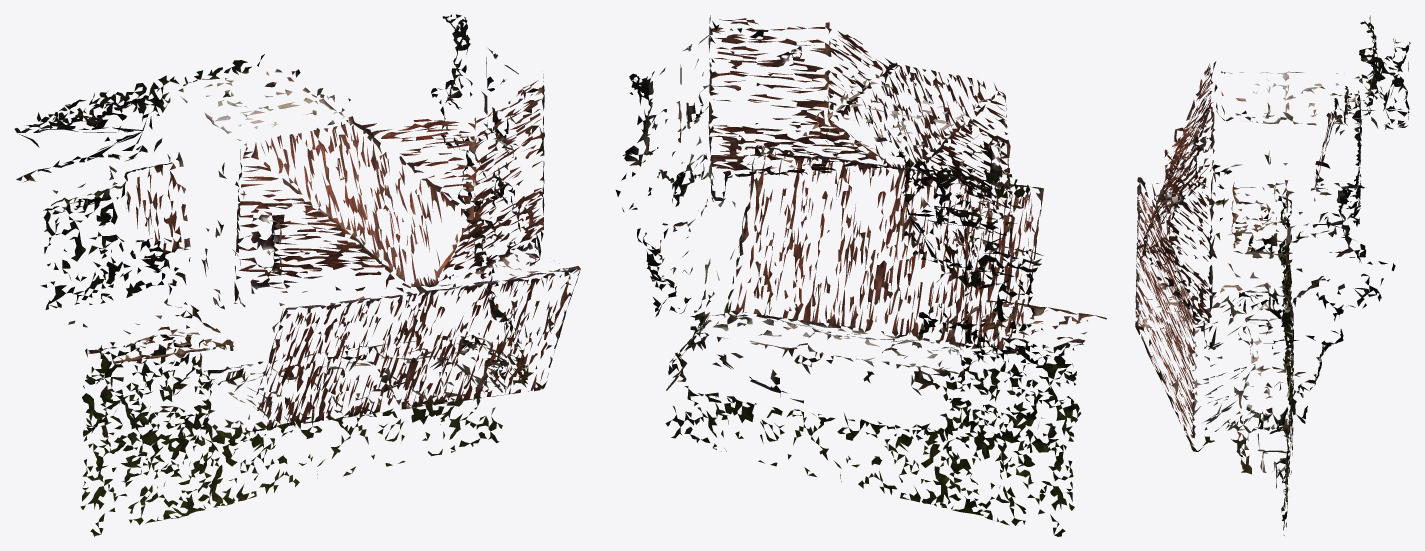
3 renders of one model, left to right at view 1: azimuth 30°, elevation 25°; view 2: azimuth 150°, elevation 25°; view 3: azimuth 270°, elevation 25°, orthographic. The views are drawn at different scales.
Size of the model in its own units: 24.97 by 22.59 by 16.01.
1 material, 1 textured.
